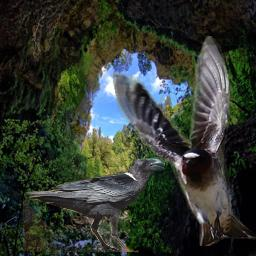Crow: (23, 156, 165, 252)
Swallow: (113, 36, 256, 246)
